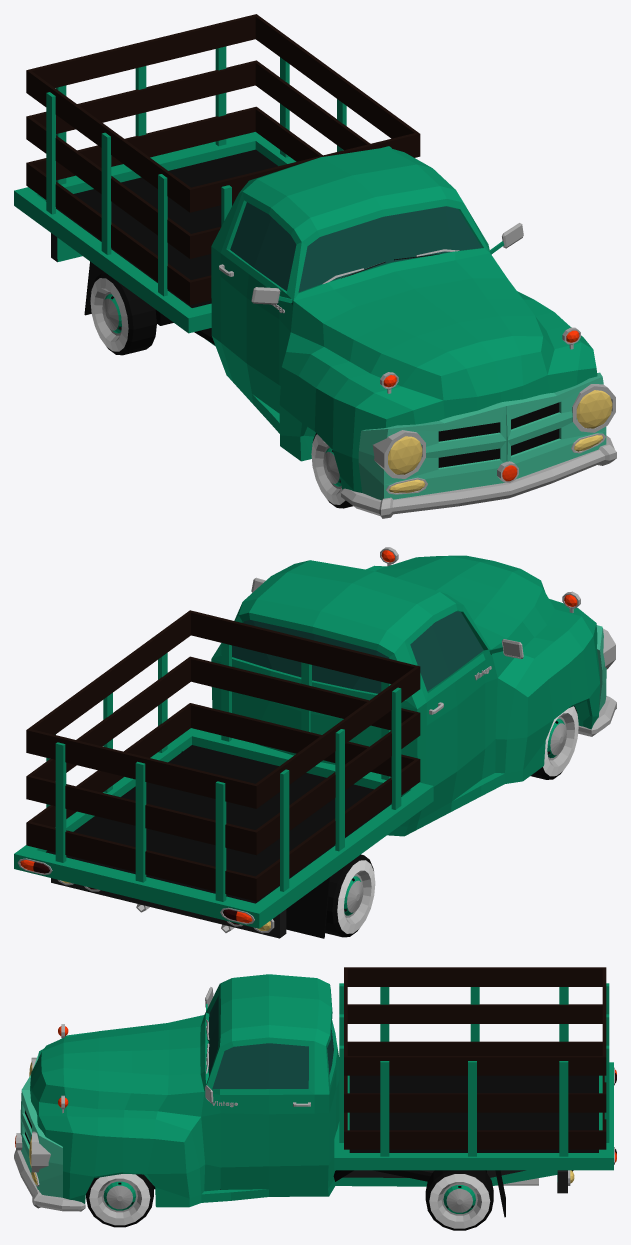
File: VintagePickup_01.FBX
The picture shows the model from 3 angles, top to bottom: view 1: azimuth 30°, elevation 25°; view 2: azimuth 150°, elevation 25°; view 3: azimuth 270°, elevation 25°; orthographic projection. The views are drawn at different scales.
Visible parts, largest first — view 1: VintagePickup_01, interieur, wheel_b_r, headLights, lights, wheel_f_r, mirrors; view 2: VintagePickup_01, interieur, wheel_b_r, wheel_f_r, lights, mirrors; view 3: VintagePickup_01, interieur, wheel_b_l, wheel_f_l, lights.
Part boxes in pixels (<box>): VintagePickup_01: <box>14,14,616,518</box>; interieur: <box>230,202,481,304</box>; wheel_b_r: <box>90,272,156,355</box>; headLights: <box>388,390,612,492</box>; lights: <box>372,327,615,494</box>; wheel_f_r: <box>311,433,352,508</box>; mirrors: <box>251,223,523,304</box>; VintagePickup_01: <box>14,555,616,938</box>; interieur: <box>240,619,491,693</box>; wheel_b_r: <box>325,854,375,937</box>; wheel_f_r: <box>531,706,578,779</box>; lights: <box>17,547,615,933</box>; mirrors: <box>251,577,523,658</box>; VintagePickup_01: <box>14,967,613,1217</box>; interieur: <box>208,996,333,1189</box>; wheel_b_l: <box>425,1170,493,1230</box>; wheel_f_l: <box>86,1174,153,1227</box>; lights: <box>16,1024,614,1186</box>.
Size of the model in its own units: 24.58 by 20.23 by 58.89.
